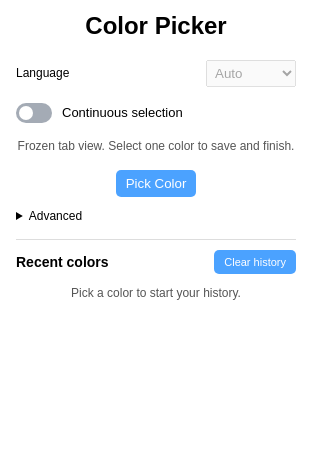
it: popup interactions › reports a restoration failure
Click the heading "Advanced": (55, 216) [29,209,82,223]
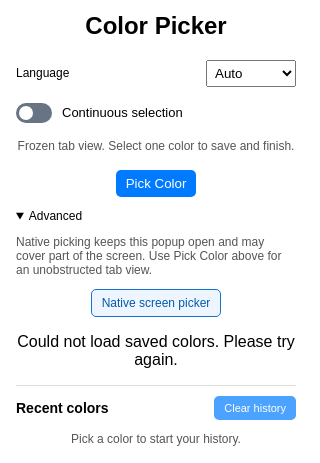
Expected: the message shows "Could not load saved colors", [17,333,295,368]
